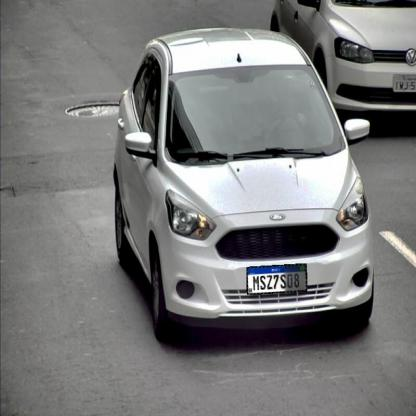PlacaM: (246, 263, 308, 294)
